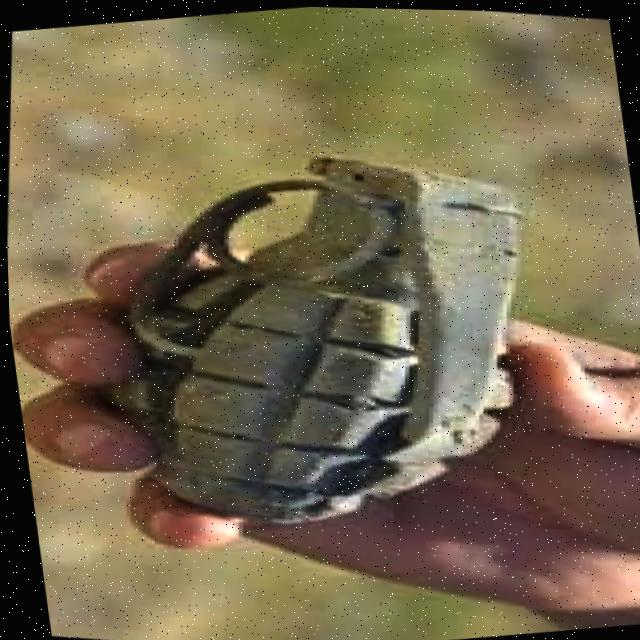grenade: (59, 92, 579, 582)
